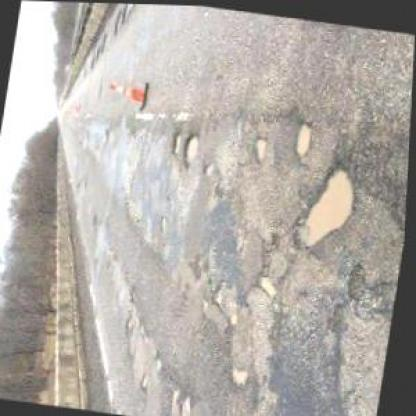pothole: (291, 155, 361, 251), (346, 255, 400, 309), (124, 286, 148, 348), (293, 115, 316, 155), (182, 128, 204, 165), (256, 270, 283, 297), (232, 361, 256, 386), (252, 130, 271, 160), (179, 387, 197, 414), (213, 274, 229, 304), (169, 126, 185, 154), (156, 209, 170, 232), (172, 384, 183, 409), (141, 370, 154, 390), (155, 350, 168, 370), (229, 305, 241, 323)
